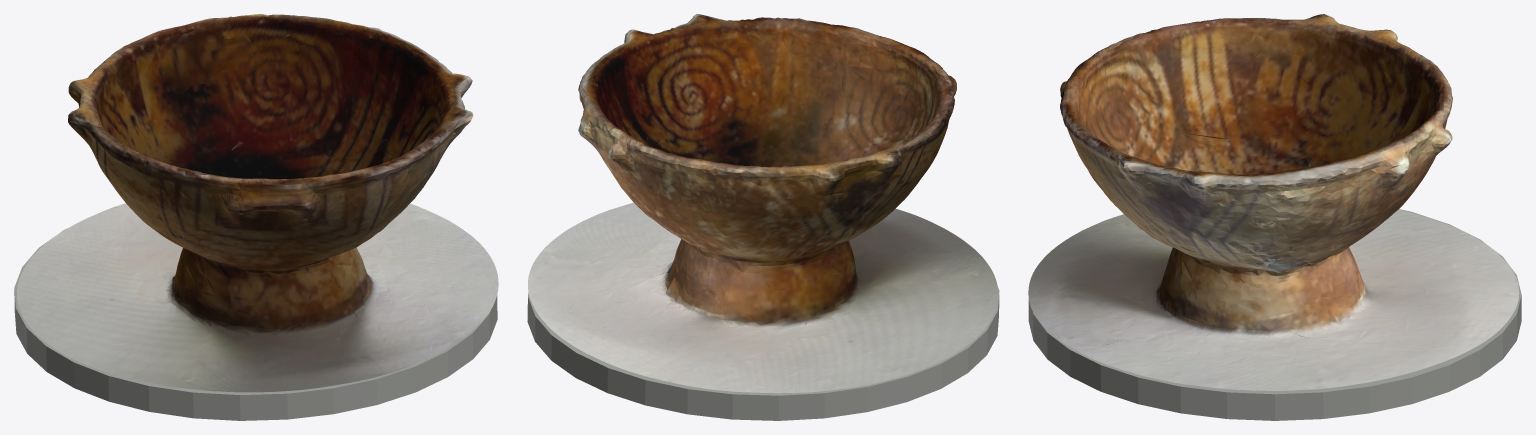
3 renders of one model, left to right at view 1: azimuth 30°, elevation 25°; view 2: azimuth 150°, elevation 25°; view 3: azimuth 270°, elevation 25°, orthographic. The views are drawn at different scales.
Visible parts, largest first — view 1: Mesh_0; view 2: Mesh_0; view 3: Mesh_0.
Boxes of the visible parts, left/top/right/bottom form: Mesh_0: left=14, top=14, right=498, bottom=420; Mesh_0: left=527, top=14, right=999, bottom=420; Mesh_0: left=1028, top=14, right=1521, bottom=420.
Size of the model in its own units: 0.2149 by 0.1145 by 0.2148.
Materials: 1 (1 with a texture image).
